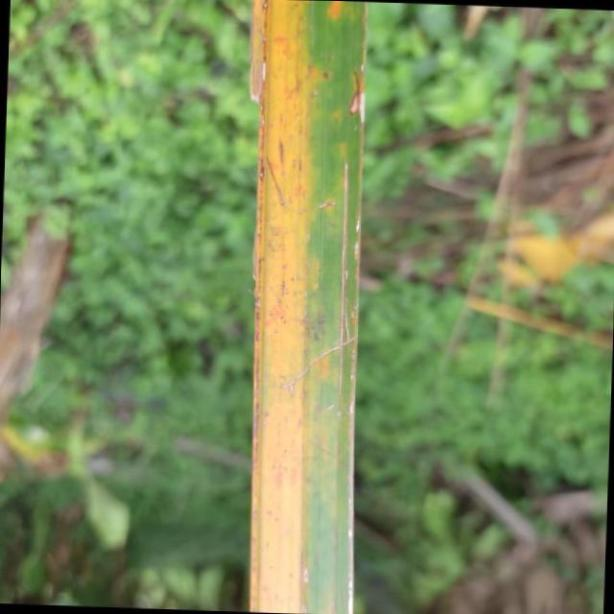Megnesium: (248, 0, 366, 614)
